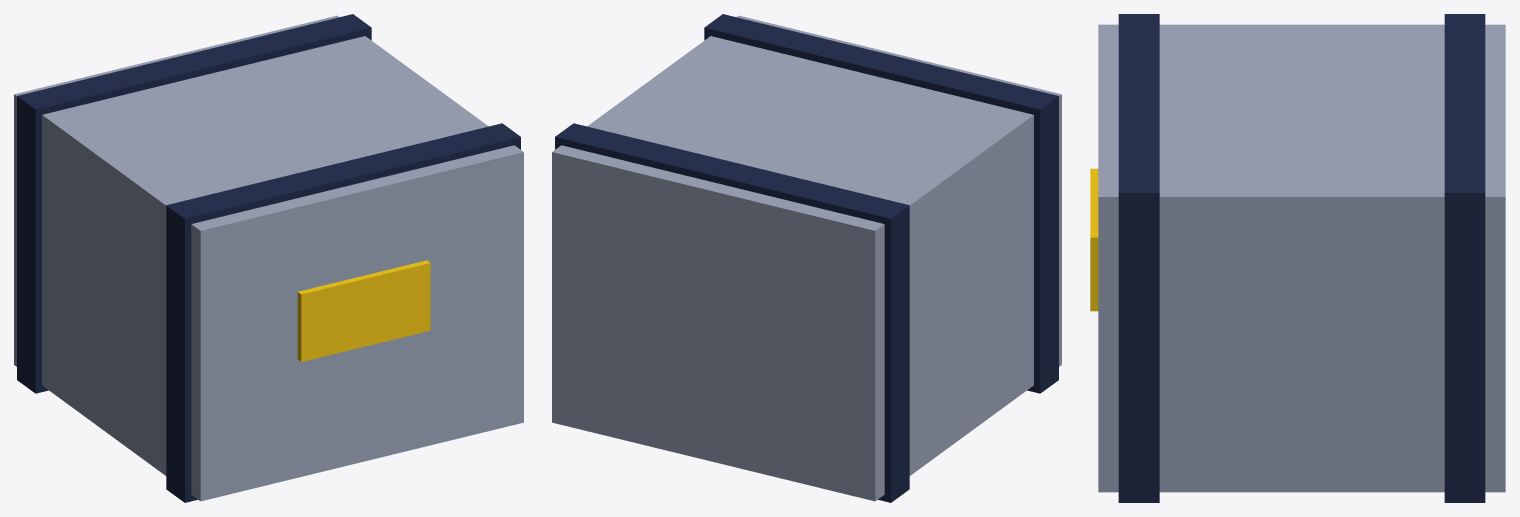
File: stationpack-cargo-crate.glb
The picture shows the model from 3 angles, left to right: view 1: azimuth 30°, elevation 25°; view 2: azimuth 150°, elevation 25°; view 3: azimuth 270°, elevation 25°; orthographic projection. The views are drawn at different scales.
Visible parts, largest first — view 1: cargo_crate; view 2: cargo_crate; view 3: cargo_crate.
Part boxes in pixels (x1,y1,x2,y2): cargo_crate: (14,14,523,502); cargo_crate: (552,14,1061,502); cargo_crate: (1090,14,1505,502).
Bounding box in the file's own units: 1.04 × 0.84 × 1.02.
